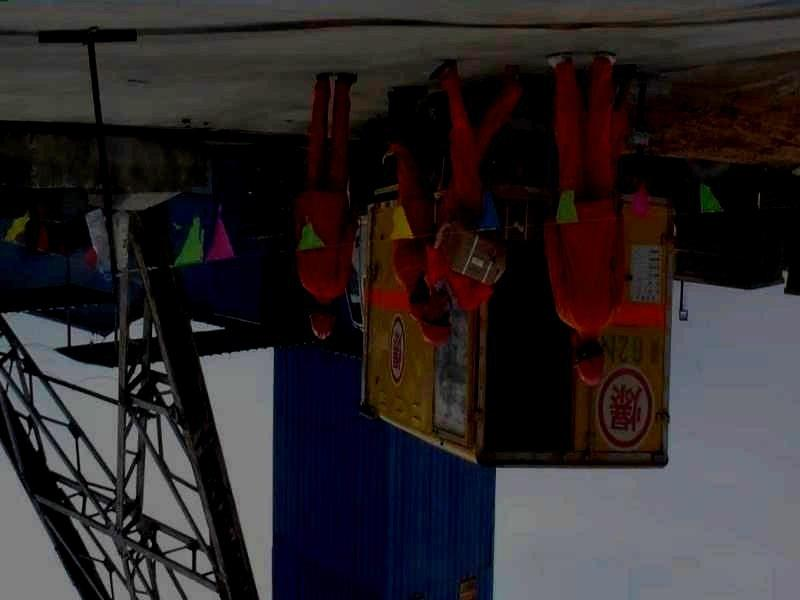helmet: (418, 293, 453, 347), (572, 335, 607, 387), (308, 300, 338, 340), (407, 280, 430, 323)
